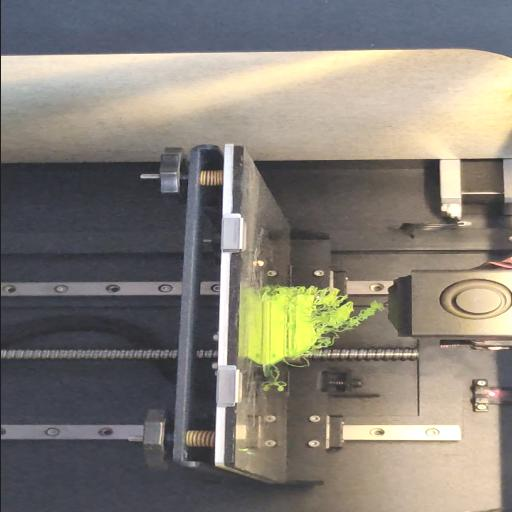spaghetti: (314, 288, 384, 348), (271, 368, 288, 394), (282, 358, 310, 366), (256, 285, 272, 297)
